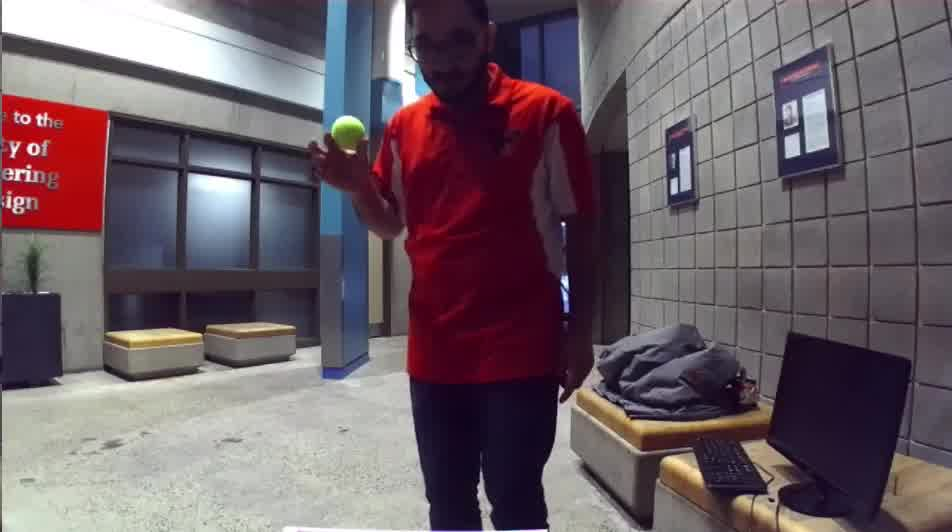tennis_ball: (330, 113, 368, 152)
